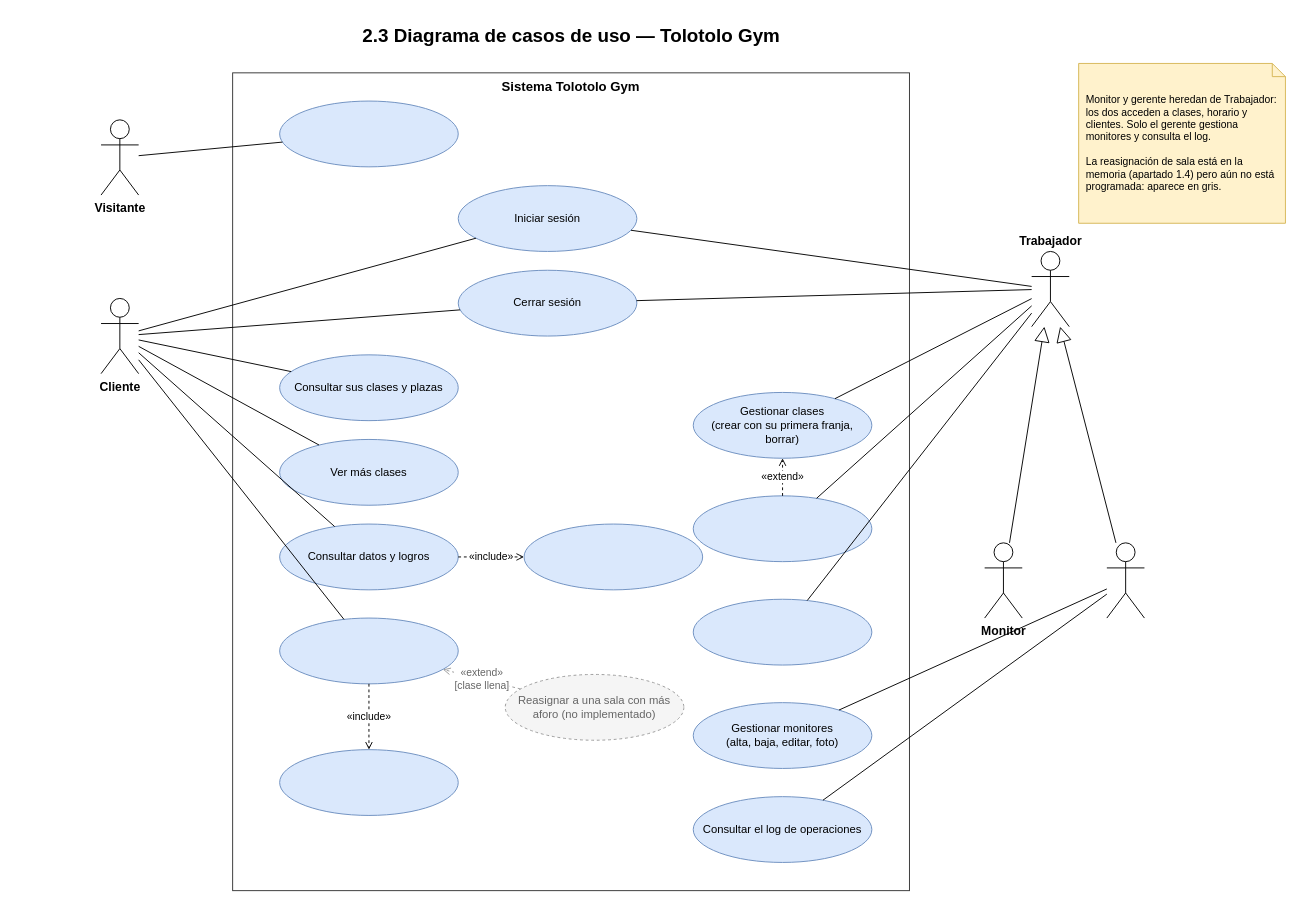
The diagram is 1302 pixels wide and 907 high, and some of its shapes have lost their labels. The shapes that lost their labels are listed below. From the top down, each one's centre as x and y in pixels, then its label:
point 368,133: Registrarse y pagar la membresía
point 782,528: Gestionar horario (añadir, editar o quitar franjas; mínimo una)
point 613,556: Actualizar logros por antigüedad
point 1125,580: Gerente
point 368,650: Apuntarse a una clase
point 782,631: Gestionar clientes (alta, baja, editar, foto)
point 368,782: Comprobar máx. 6 clases y que no esté apuntado
